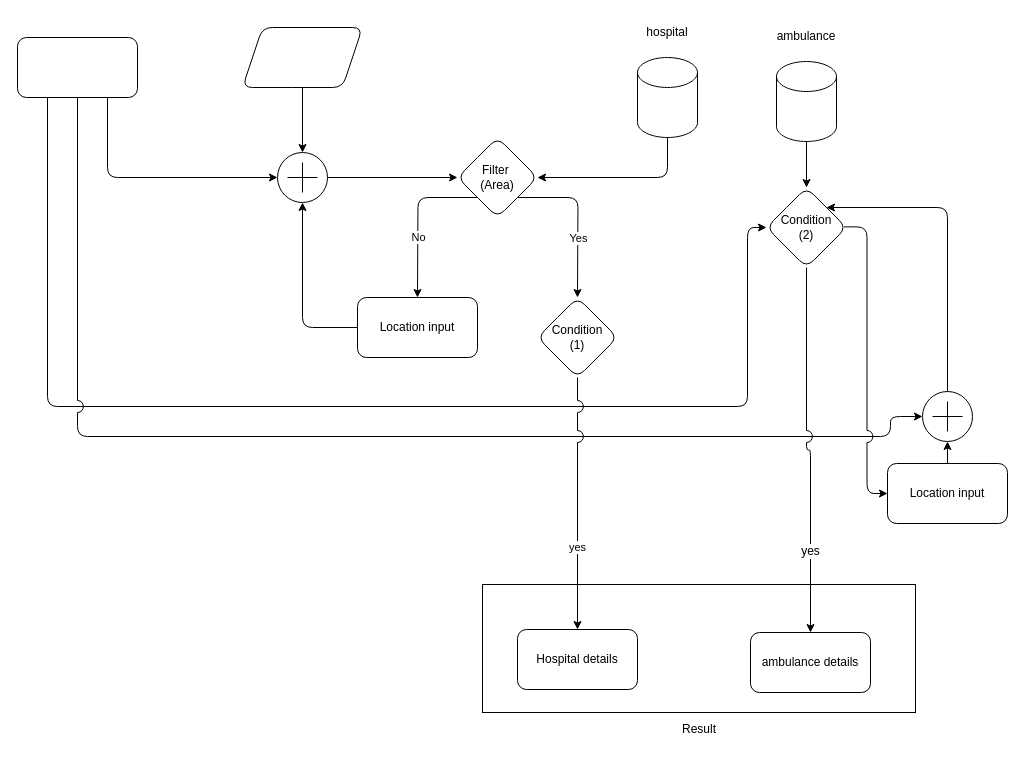
This 1025x761 diagram has some shape labels left out. The centre of each missing label's shape, as x and y in pixels:
database 1: the point at 667,97
database 2: the point at 806,101
Location data: the point at 77,67
User input: the point at 302,57
